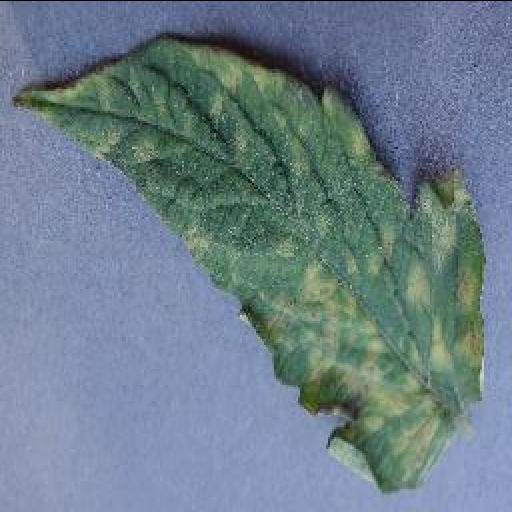disease_tomato: (13, 34, 487, 492)
